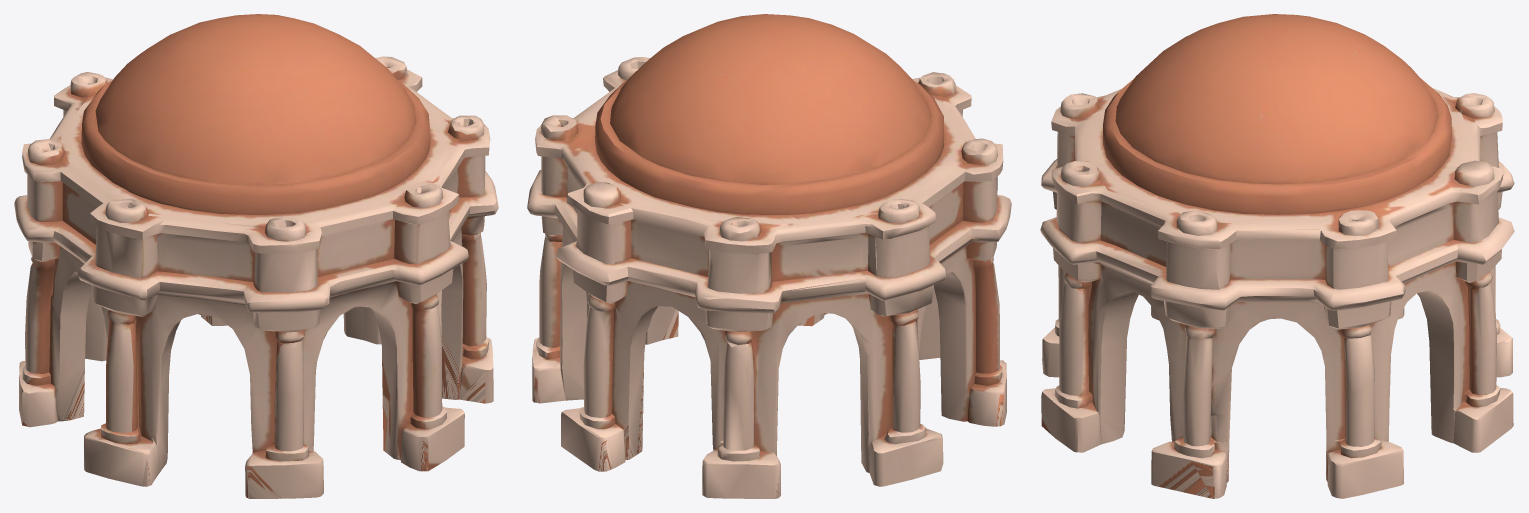
Rendered from palace-rotunda.glb.
3 renders of one model, left to right at view 1: azimuth 30°, elevation 25°; view 2: azimuth 150°, elevation 25°; view 3: azimuth 270°, elevation 25°, orthographic.
Parts seen in each view (by area): view 1: rotunda; view 2: rotunda; view 3: rotunda.
Boxes of the visible parts, x1,y1,x2,y2 form: rotunda: [14, 14, 498, 498]; rotunda: [527, 14, 1011, 498]; rotunda: [1040, 14, 1514, 498].
Size of the model in its own units: 12.66 by 10.8 by 12.67.
Materials: 1 (1 with a texture image).
